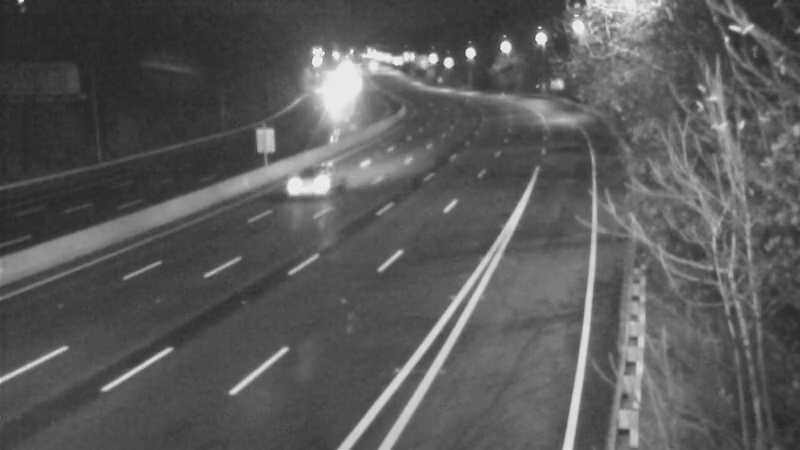vehicle: (275, 143, 355, 223)
